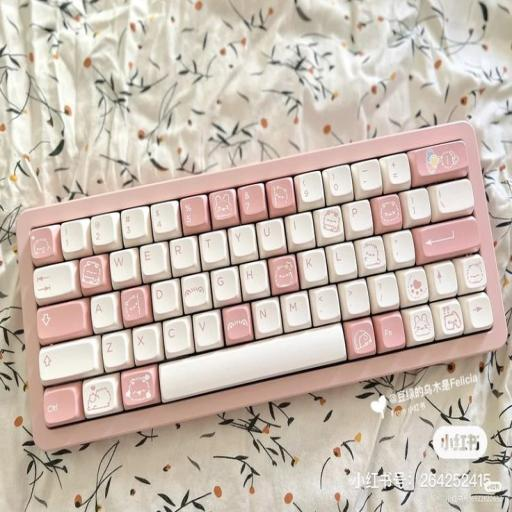KEYBOARD-2: (18, 122, 506, 448)
